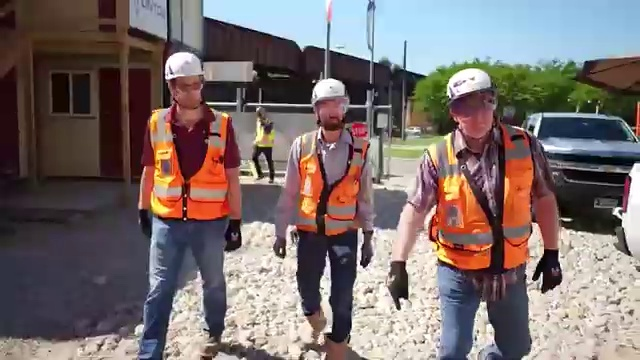helmet: (437, 60, 498, 105), (307, 73, 354, 104), (159, 51, 207, 77)
jacket: (419, 126, 540, 263), (128, 100, 254, 224), (293, 131, 368, 242)
